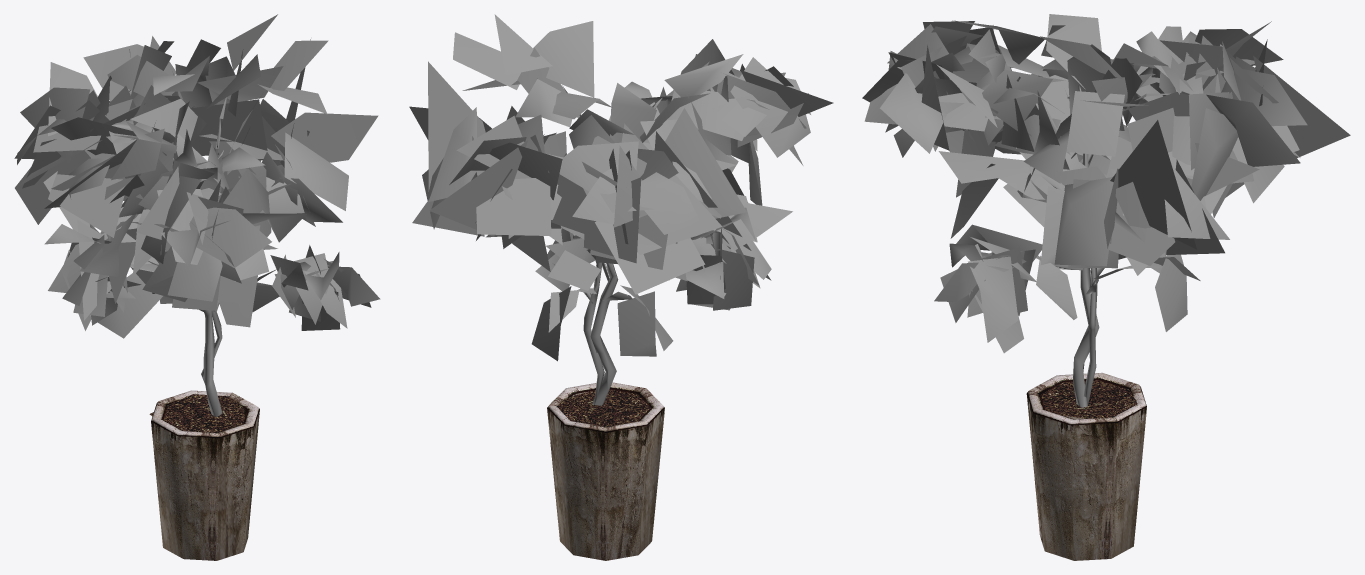
File: Ficus2_Leaf_lod2.fbx
3 renders of one model, left to right at view 1: azimuth 30°, elevation 25°; view 2: azimuth 150°, elevation 25°; view 3: azimuth 270°, elevation 25°, orthographic. The views are drawn at different scales.
Parts seen in each view (by area): view 1: Ficus2_Leaf_lod2; view 2: Ficus2_Leaf_lod2; view 3: Ficus2_Leaf_lod2.
Boxes of the visible parts, box(x1,y1,x2,y2) form: Ficus2_Leaf_lod2: box(14, 14, 380, 560); Ficus2_Leaf_lod2: box(409, 14, 833, 560); Ficus2_Leaf_lod2: box(862, 14, 1350, 560).
Size of the model in its own units: 112 by 160 by 129.
Materials: 3 (1 with a texture image).
